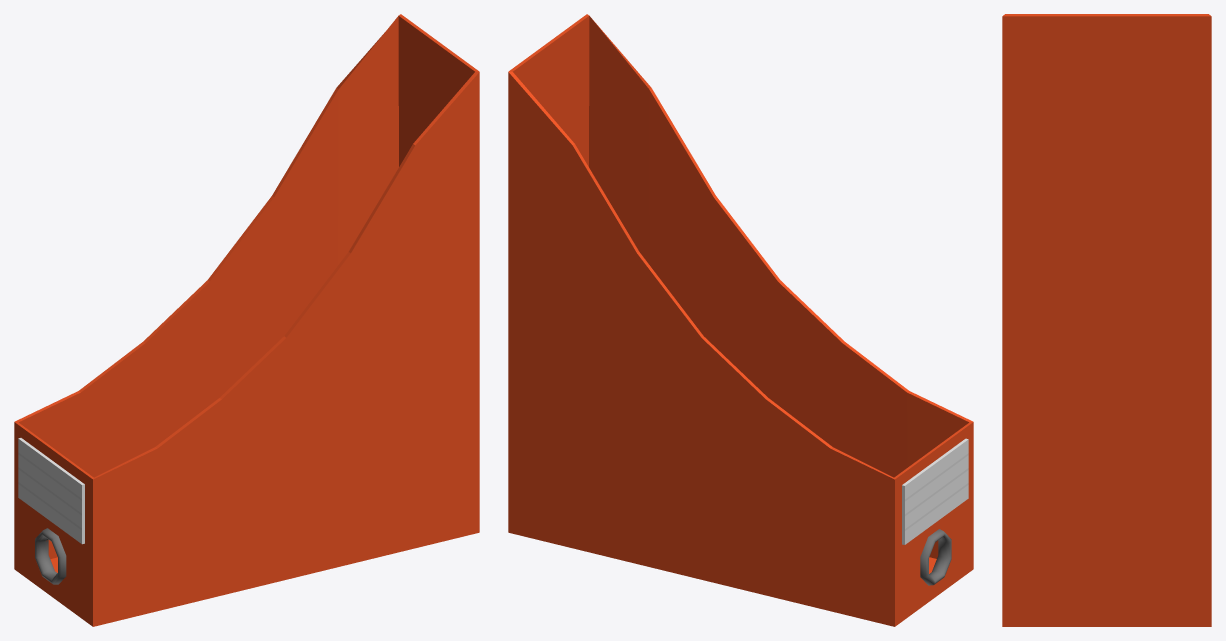
The model's file is File Holder04.fbx.
3 views of the same model, side by side, from view 1: azimuth 30°, elevation 25°; view 2: azimuth 150°, elevation 25°; view 3: azimuth 270°, elevation 25° (orthographic). The views are drawn at different scales.
Visible parts, largest first — view 1: File Holder04; view 2: File Holder04; view 3: File Holder04.
Boxes of the visible parts, x1=… form: File Holder04: x1=14, y1=14, x2=479, y2=626; File Holder04: x1=508, y1=14, x2=973, y2=626; File Holder04: x1=1002, y1=14, x2=1211, y2=626.
Bounding box in the file's own units: 0.3018 × 0.1049 × 0.3382.
